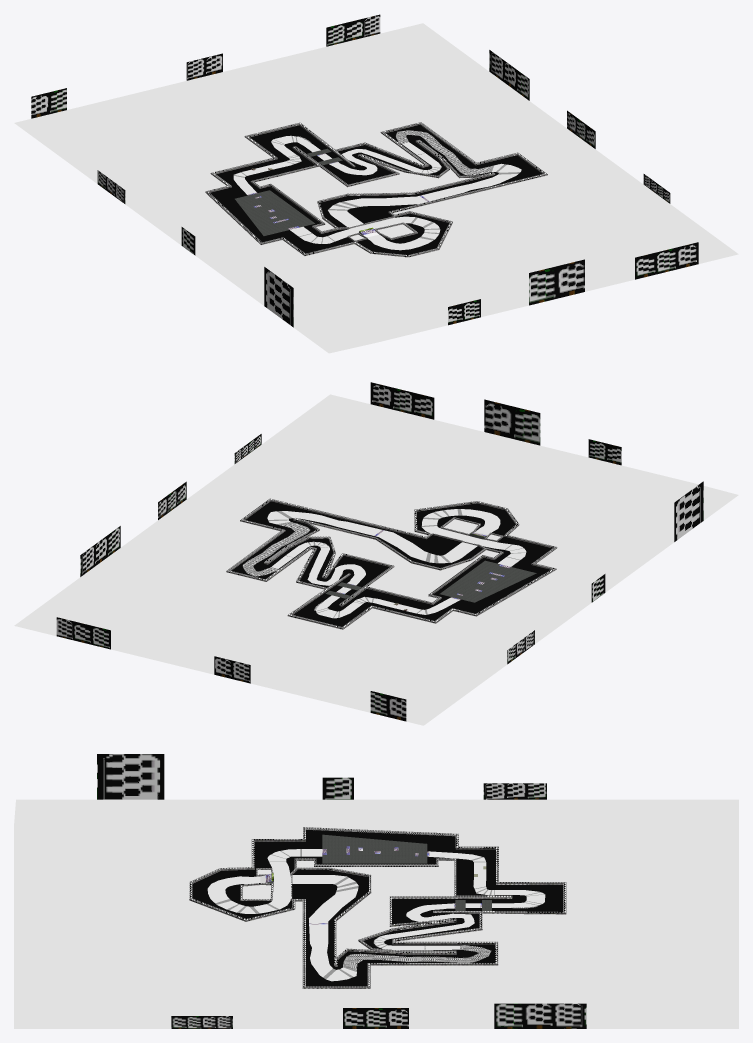
3 renders of one model, top to bottom at view 1: azimuth 30°, elevation 25°; view 2: azimuth 150°, elevation 25°; view 3: azimuth 270°, elevation 25°, orthographic. The views are drawn at different scales.
Visible parts, largest first — view 1: Course-SKP--blanco_afura_fall, Course-SKP--arboles, Course-SKP--grassblack, Course-SKP--road, Course-SKP--pared_arriba, Course-SKP--pared_lado, Course-SKP--grass_2, Course-SKP--meta, Course-SKP--road_2; view 2: Course-SKP--blanco_afura_fall, Course-SKP--arboles, Course-SKP--grassblack, Course-SKP--road, Course-SKP--pared_arriba, Course-SKP--pared_lado, Course-SKP--grass_2, Course-SKP--meta, Course-SKP--road_2; view 3: Course-SKP--blanco_afura_fall, Course-SKP--grassblack, Course-SKP--arboles, Course-SKP--road, Course-SKP--pared_arriba, Course-SKP--pared_lado, Course-SKP--grass_2, Course-SKP--meta, Course-SKP--road_2.
Part boxes in pixels (bbox=[...]): Course-SKP--blanco_afura_fall: bbox=[14, 23, 738, 353]; Course-SKP--arboles: bbox=[31, 14, 698, 327]; Course-SKP--grassblack: bbox=[210, 125, 542, 254]; Course-SKP--road: bbox=[233, 135, 521, 250]; Course-SKP--pared_arriba: bbox=[205, 122, 547, 256]; Course-SKP--pared_lado: bbox=[205, 123, 547, 257]; Course-SKP--grass_2: bbox=[235, 148, 342, 235]; Course-SKP--meta: bbox=[298, 130, 491, 175]; Course-SKP--road_2: bbox=[233, 130, 520, 243]; Course-SKP--blanco_afura_fall: bbox=[14, 394, 738, 725]; Course-SKP--arboles: bbox=[56, 382, 703, 721]; Course-SKP--grassblack: bbox=[231, 501, 551, 626]; Course-SKP--road: bbox=[267, 509, 526, 618]; Course-SKP--pared_arriba: bbox=[227, 498, 556, 628]; Course-SKP--pared_lado: bbox=[226, 500, 557, 629]; Course-SKP--grass_2: bbox=[325, 560, 536, 602]; Course-SKP--meta: bbox=[242, 522, 438, 610]; Course-SKP--road_2: bbox=[244, 509, 525, 618]; Course-SKP--blanco_afura_fall: bbox=[14, 799, 738, 1028]; Course-SKP--grassblack: bbox=[192, 830, 563, 986]; Course-SKP--arboles: bbox=[97, 754, 586, 1028]; Course-SKP--road: bbox=[207, 849, 545, 981]; Course-SKP--pared_arriba: bbox=[189, 827, 566, 987]; Course-SKP--pared_lado: bbox=[189, 840, 566, 988]; Course-SKP--grass_2: bbox=[322, 834, 491, 911]; Course-SKP--meta: bbox=[306, 828, 537, 970]; Course-SKP--road_2: bbox=[215, 849, 544, 979].
Size of the model in its own units: 129916 by 12039 by 173700.
Materials: 16 (16 with a texture image).
